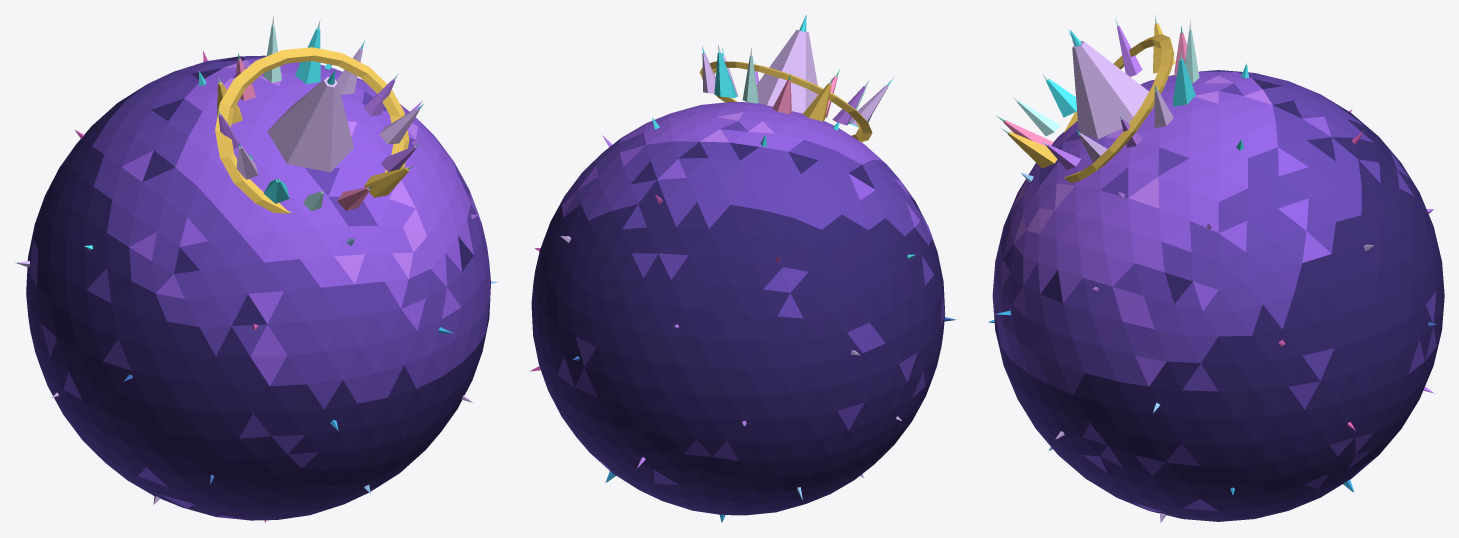
File: Crystal_10.fbx
3 renders of one model, left to right at view 1: azimuth 30°, elevation 25°; view 2: azimuth 150°, elevation 25°; view 3: azimuth 270°, elevation 25°, orthographic. The views are drawn at different scales.
Visible parts, largest first — view 1: Crystal_10; view 2: Crystal_10; view 3: Crystal_10.
Part boxes in pixels (left/top/right/bottom): Crystal_10: left=15, top=16, right=497, bottom=523; Crystal_10: left=529, top=14, right=956, bottom=522; Crystal_10: left=987, top=14, right=1444, bottom=522.
Bounding box in the file's own units: 6.09 × 7.06 × 6.08.
Materials: 1 (1 with a texture image).
